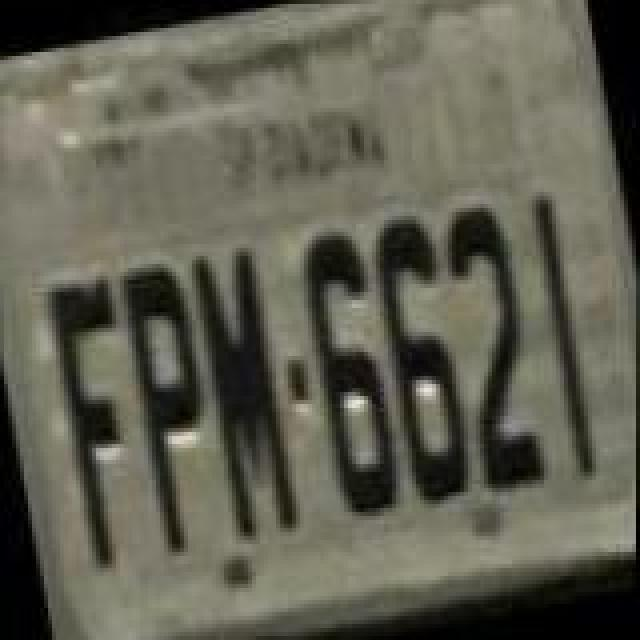1: (518, 186, 606, 486)
2: (430, 194, 554, 498)
6: (290, 220, 414, 520), (360, 206, 480, 506)
F: (38, 266, 166, 582)
M: (176, 234, 304, 546)
P: (112, 254, 236, 566)
